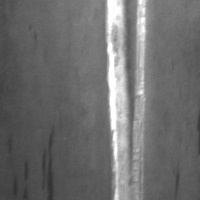inclusion: (38, 128, 56, 199), (12, 160, 30, 199), (170, 172, 182, 199)
scratches: (104, 0, 150, 199)
